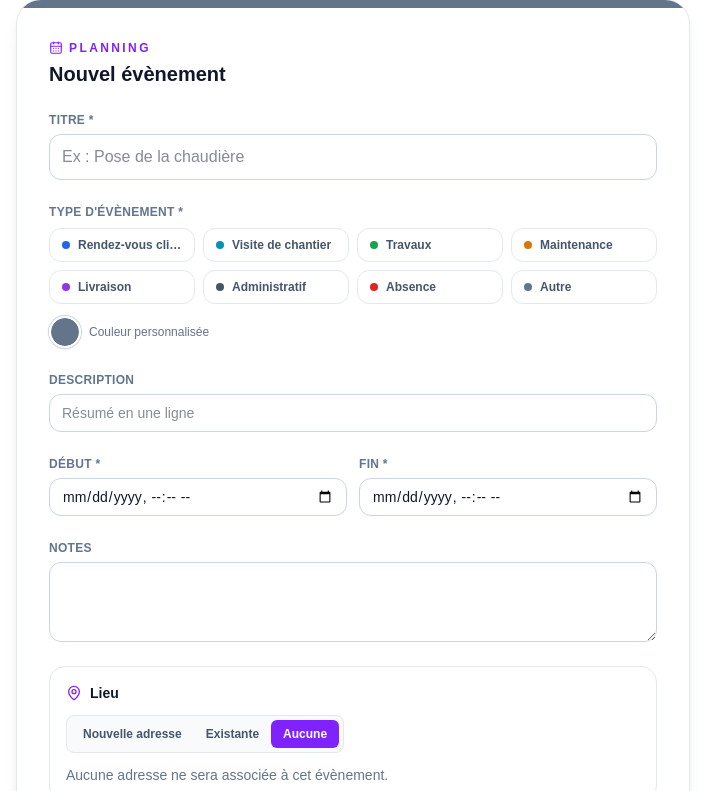
Test case: AddCalendarEventForm › shows a validation error when the dates are missing
Type "Visite client" into the field labelled "Titre *" at (353, 157), box [49,134,657,180]
(page scrolled)
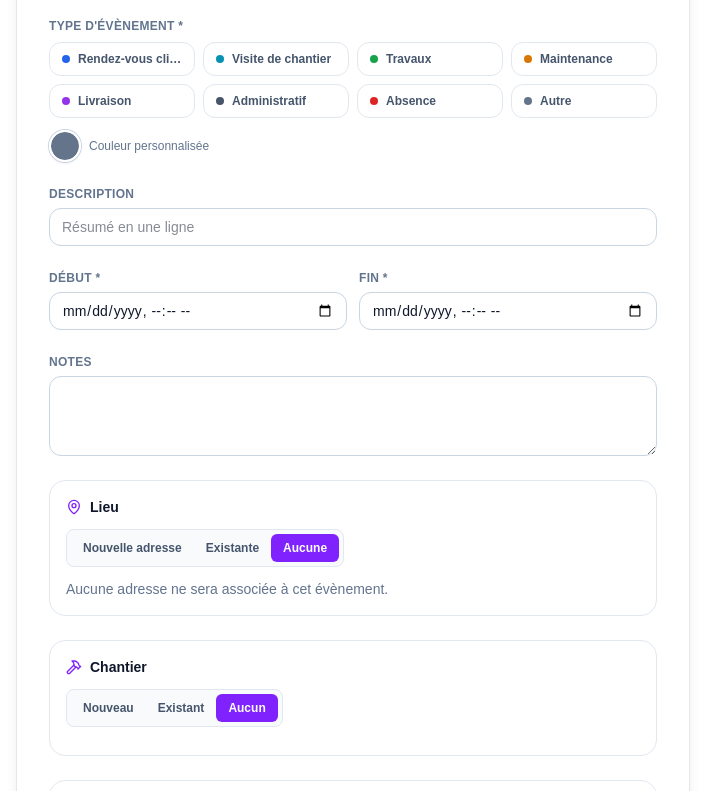
Submit the form named "Ajouter"
(page scrolled)
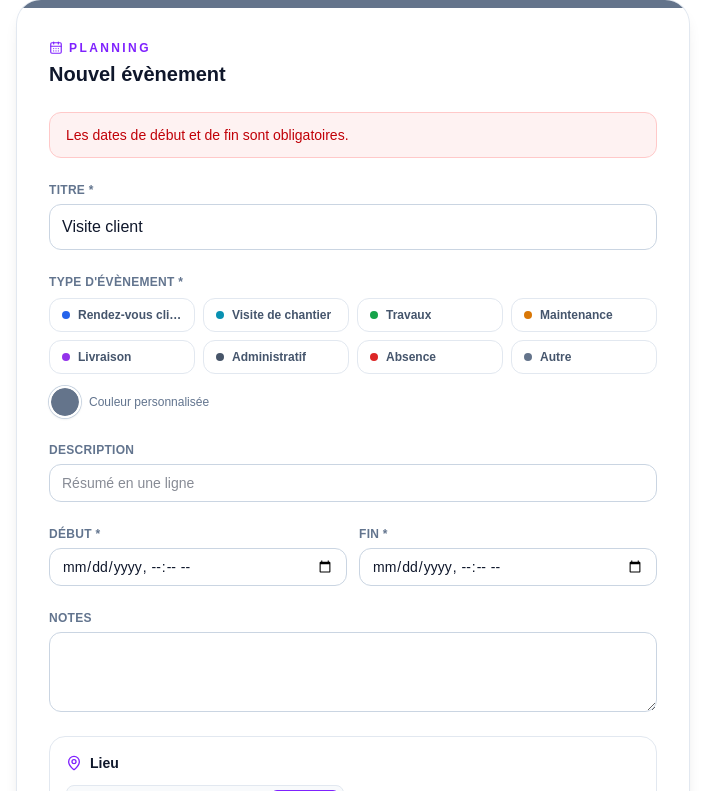
Expected: the text "Les dates de début et de fin sont obligatoires." is shown, [49,112,657,158]
